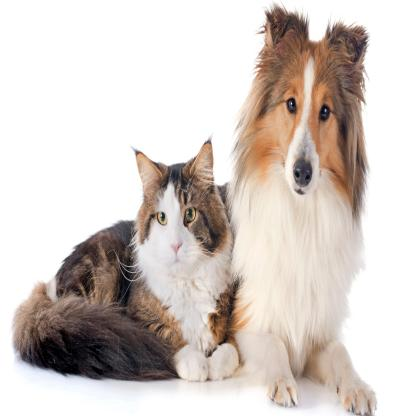dog: (244, 7, 402, 240), (120, 130, 240, 318)
